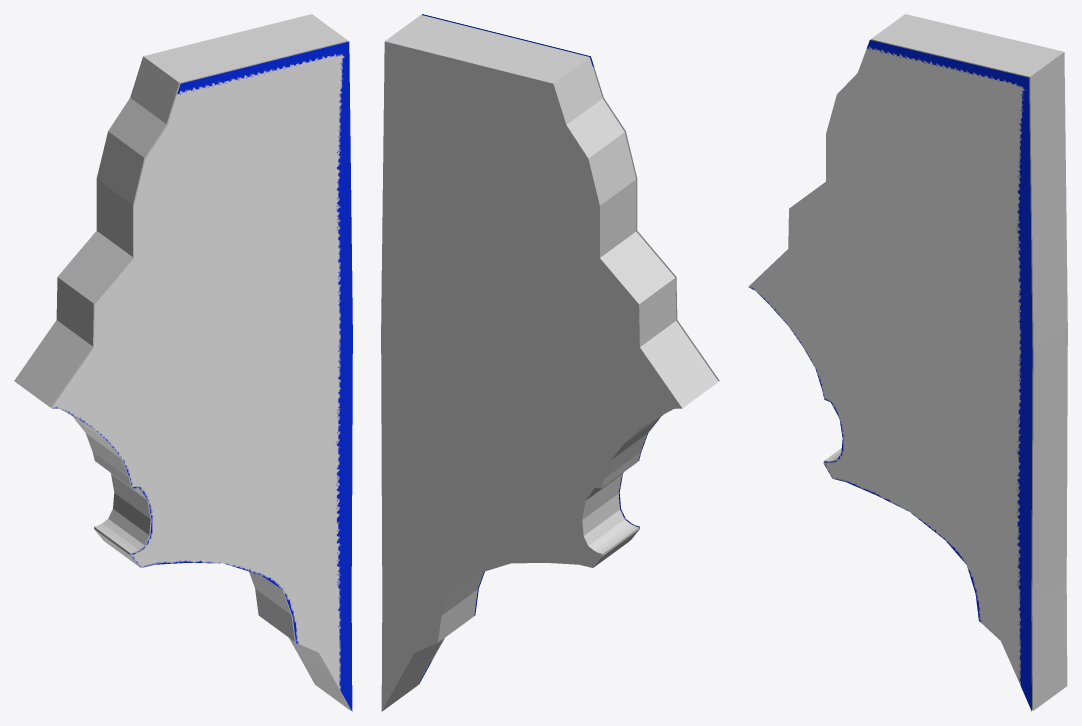
The picture shows the model from 3 angles, left to right: view 1: azimuth 30°, elevation 25°; view 2: azimuth 150°, elevation 25°; view 3: azimuth 330°, elevation 25°; orthographic projection. The views are drawn at different scales.
Parts seen in each view (by area): view 1: Out_3_1, Out_3_0; view 2: Out_3_0, Out_3_1; view 3: Out_3_1, Out_3_0.
Part boxes in pixels (x1,y1,x2,y2): Out_3_1: [51, 41, 352, 711]; Out_3_0: [14, 14, 351, 710]; Out_3_0: [381, 15, 718, 711]; Out_3_1: [419, 14, 719, 684]; Out_3_1: [748, 40, 1032, 711]; Out_3_0: [793, 14, 1067, 710].
Bounding box in the file's own units: 2.39 × 5.09 × 0.515.
Materials: 2 (1 with a texture image).
